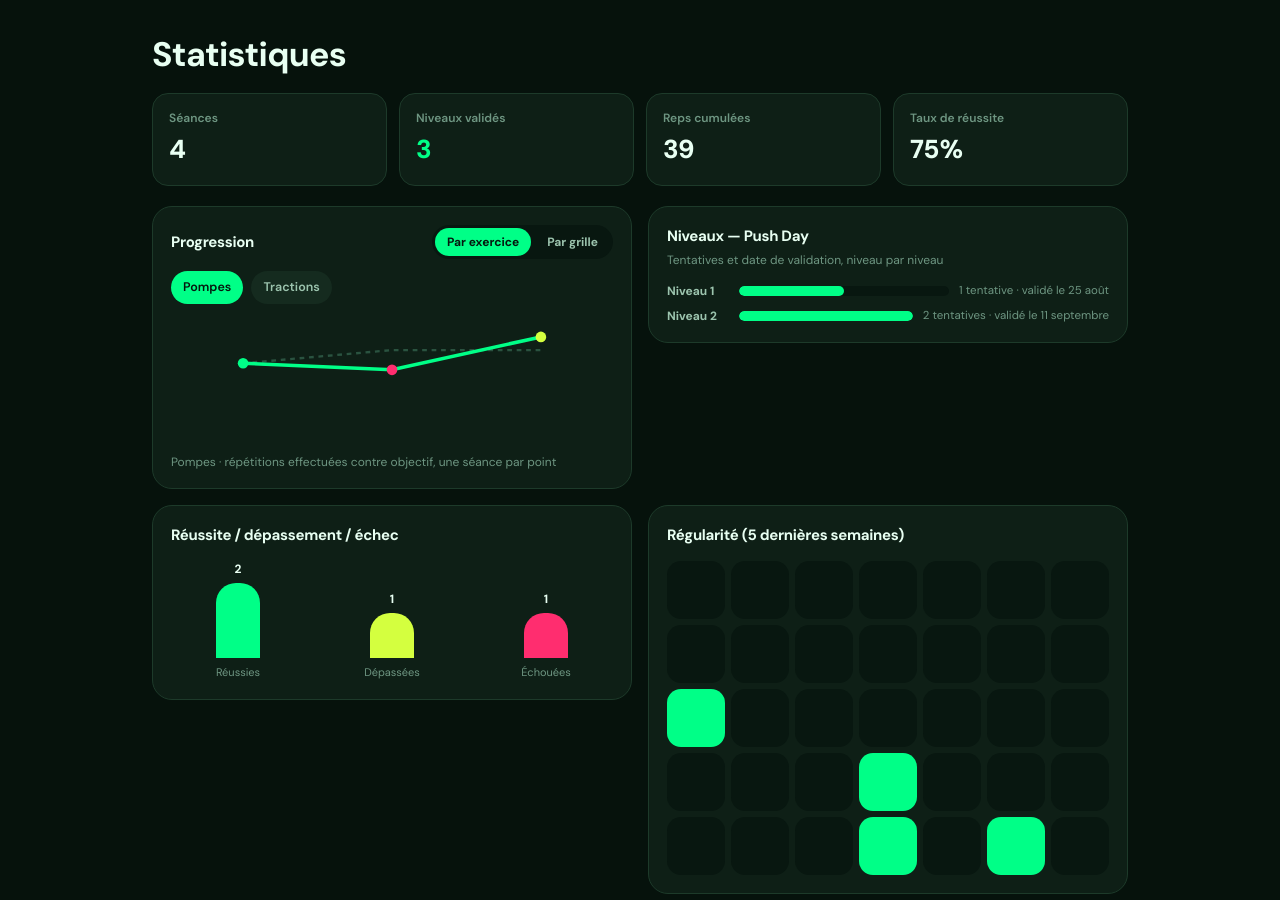
Test case: bascule de progression › suit l exercice choisi
The image size is (1280, 900).
Expected: the picture named "Progression de Pompes sur 3 séances" is shown, [171,318,613,448]
Click the button "Tractions" at (292, 288), box [251,271,332,304]
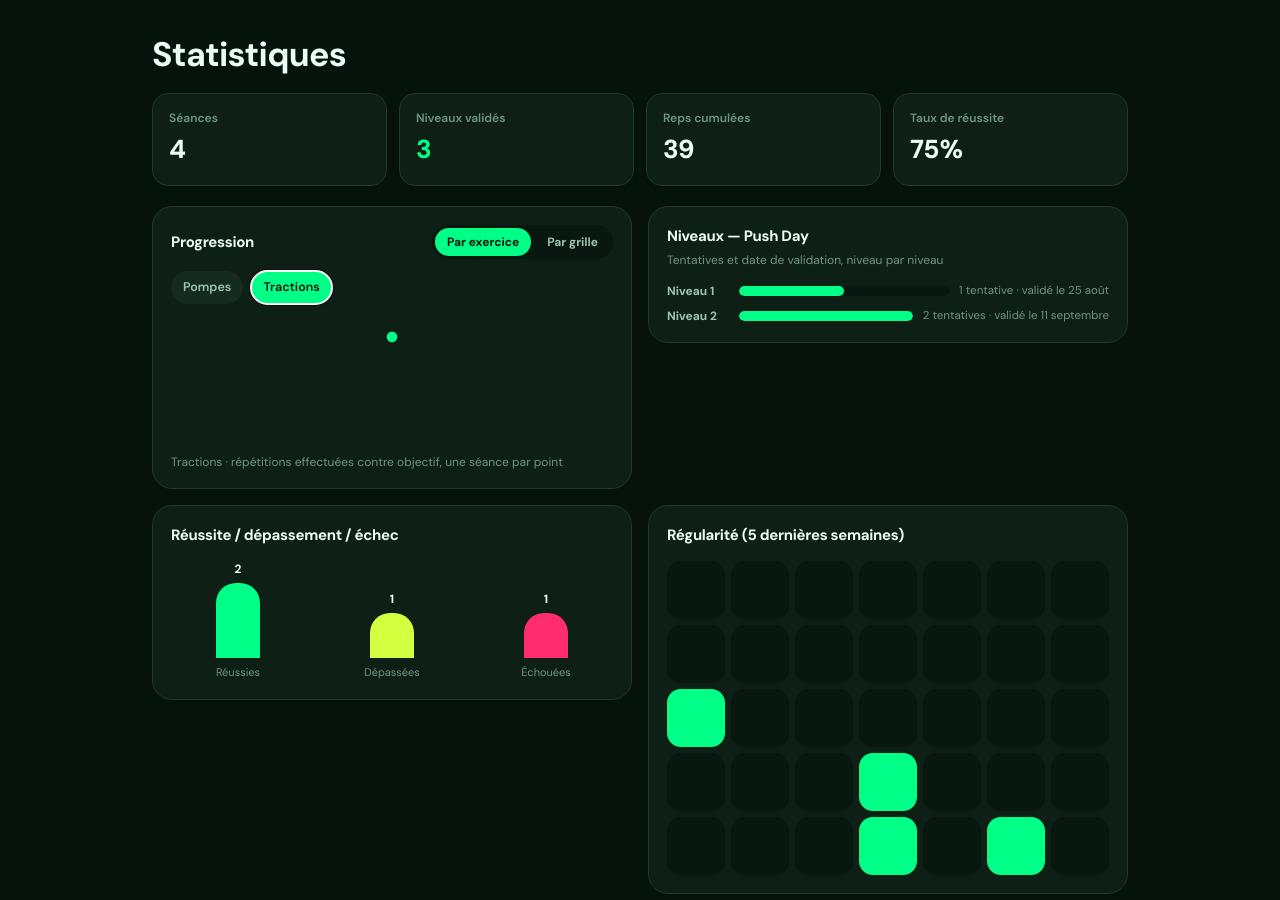
Expected: the picture named "Progression de Tractions sur 1 séances" is shown, [171,318,613,448]
